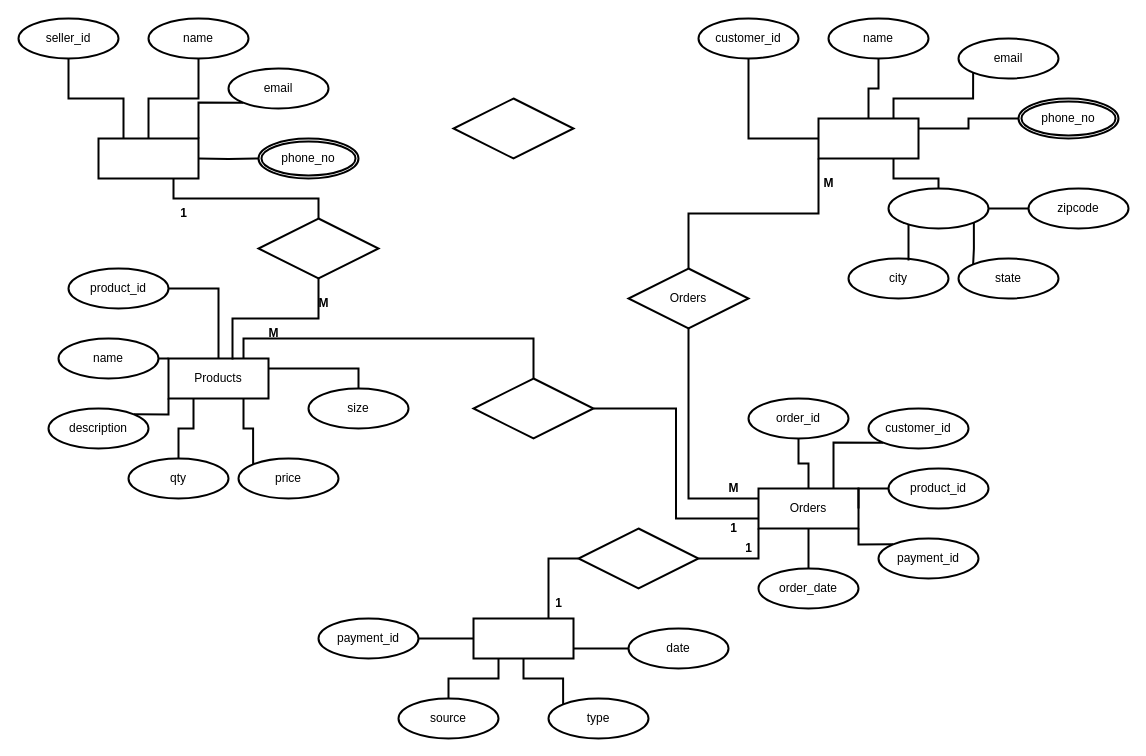
The diagram is 1146 pixels wide and 756 high, and some of its shapes have lost their labels. The centre of each missing label's shape, as x and y in pixels:
"address" goes at [938,208].
"Contains" goes at [533,408].
"Customers" goes at [868,138].
"Payment" goes at [638,558].
"Payments" goes at [523,638].
"Relationship" goes at [513,128].
"Sellers" goes at [148,158].
"Sells" goes at [318,248].
